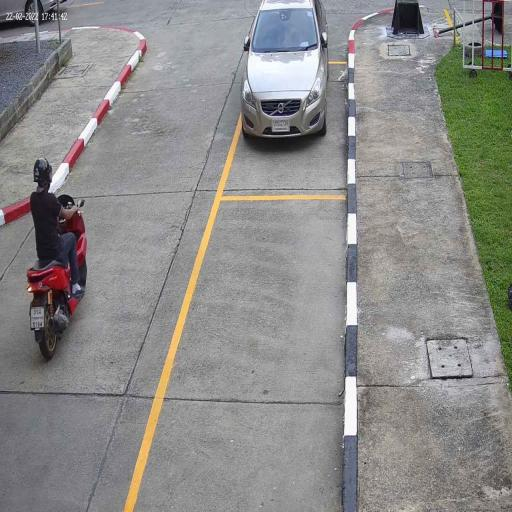car: (241, 0, 329, 142)
motorcycle: (26, 193, 88, 360)
